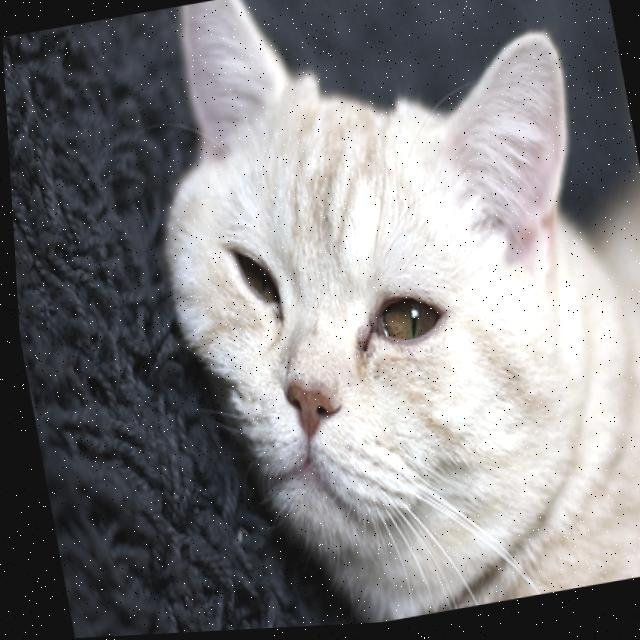British Shorthair: (114, 0, 640, 635)
